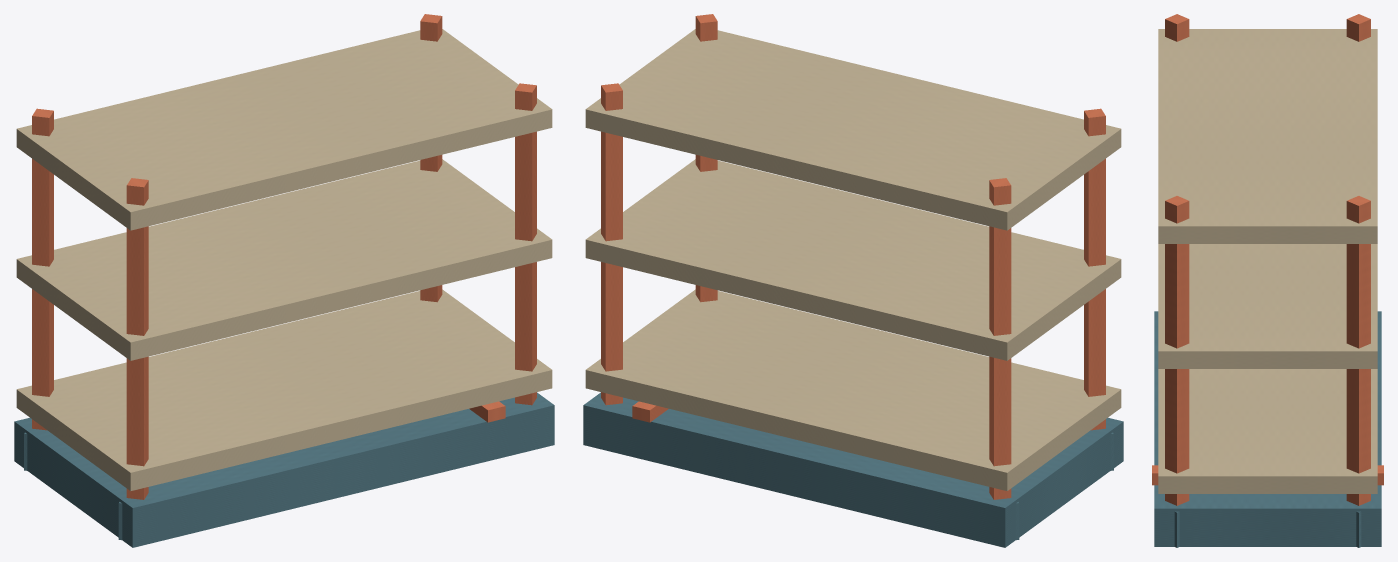
The model's file is atlas100-s045-a06.lod2.glb.
3 renders of one model, left to right at view 1: azimuth 30°, elevation 25°; view 2: azimuth 150°, elevation 25°; view 3: azimuth 270°, elevation 25°, orthographic. The views are drawn at different scales.
Parts seen in each view (by area): view 1: atlas100-s045-a06:part-013, atlas100-s045-a06:part-012, atlas100-s045-a06:part-011, atlas100-s045-a06:part-000, atlas100-s045-a06:part-005, atlas100-s045-a06:part-009, atlas100-s045-a06:part-003, atlas100-s045-a06:part-007; view 2: atlas100-s045-a06:part-013, atlas100-s045-a06:part-012, atlas100-s045-a06:part-011, atlas100-s045-a06:part-000, atlas100-s045-a06:part-003, atlas100-s045-a06:part-007, atlas100-s045-a06:part-005, atlas100-s045-a06:part-009; view 3: atlas100-s045-a06:part-013, atlas100-s045-a06:part-012, atlas100-s045-a06:part-011, atlas100-s045-a06:part-000, atlas100-s045-a06:part-007, atlas100-s045-a06:part-009, atlas100-s045-a06:part-003, atlas100-s045-a06:part-005.
Boxes of the visible parts, bbox=[...] form: atlas100-s045-a06:part-013: bbox=[16, 29, 552, 230]; atlas100-s045-a06:part-012: bbox=[16, 159, 552, 360]; atlas100-s045-a06:part-011: bbox=[16, 289, 552, 490]; atlas100-s045-a06:part-000: bbox=[14, 392, 554, 547]; atlas100-s045-a06:part-005: bbox=[126, 178, 148, 499]; atlas100-s045-a06:part-009: bbox=[515, 83, 536, 405]; atlas100-s045-a06:part-003: bbox=[32, 108, 53, 430]; atlas100-s045-a06:part-007: bbox=[420, 14, 442, 302]; atlas100-s045-a06:part-013: bbox=[585, 29, 1121, 230]; atlas100-s045-a06:part-012: bbox=[585, 159, 1121, 360]; atlas100-s045-a06:part-011: bbox=[585, 289, 1121, 490]; atlas100-s045-a06:part-000: bbox=[583, 392, 1123, 547]; atlas100-s045-a06:part-003: bbox=[989, 178, 1011, 499]; atlas100-s045-a06:part-007: bbox=[601, 83, 622, 405]; atlas100-s045-a06:part-005: bbox=[1084, 108, 1105, 430]; atlas100-s045-a06:part-009: bbox=[695, 14, 717, 302]; atlas100-s045-a06:part-013: bbox=[1158, 29, 1377, 243]; atlas100-s045-a06:part-012: bbox=[1158, 244, 1377, 368]; atlas100-s045-a06:part-011: bbox=[1158, 369, 1377, 493]; atlas100-s045-a06:part-000: bbox=[1154, 311, 1381, 546]; atlas100-s045-a06:part-007: bbox=[1346, 196, 1370, 505]; atlas100-s045-a06:part-009: bbox=[1165, 196, 1189, 505]; atlas100-s045-a06:part-003: bbox=[1346, 14, 1370, 41]; atlas100-s045-a06:part-005: bbox=[1165, 14, 1189, 41].
Bounding box in the file's own units: 2.91 × 2.3 × 1.43.
Materials: 3 (3 with a texture image).
